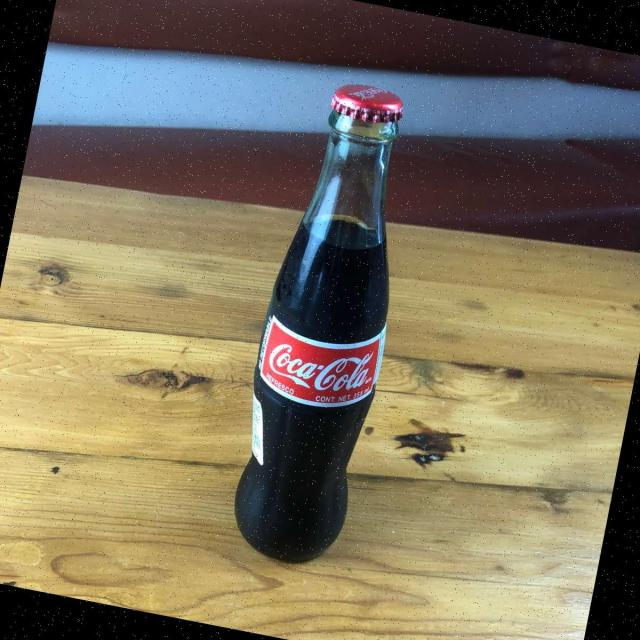coca-cola: (214, 67, 439, 576)
